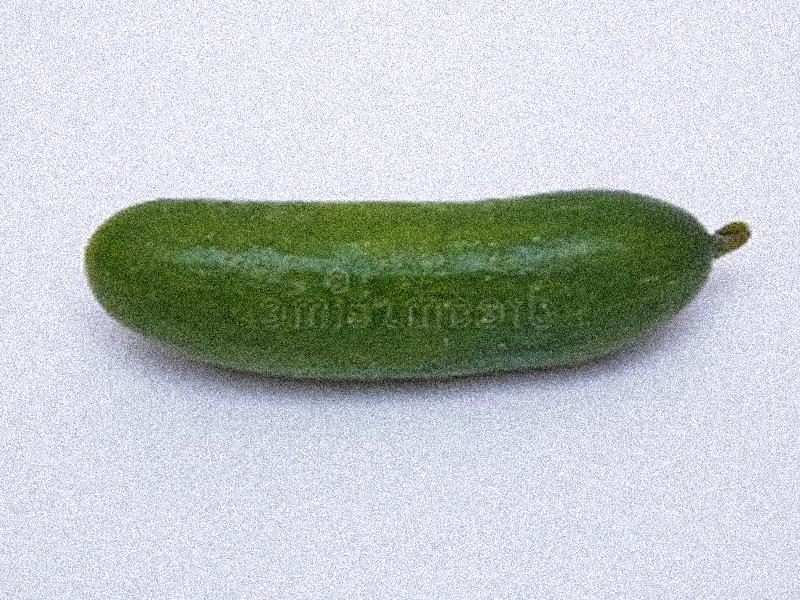Cucumber: (84, 190, 750, 381)
